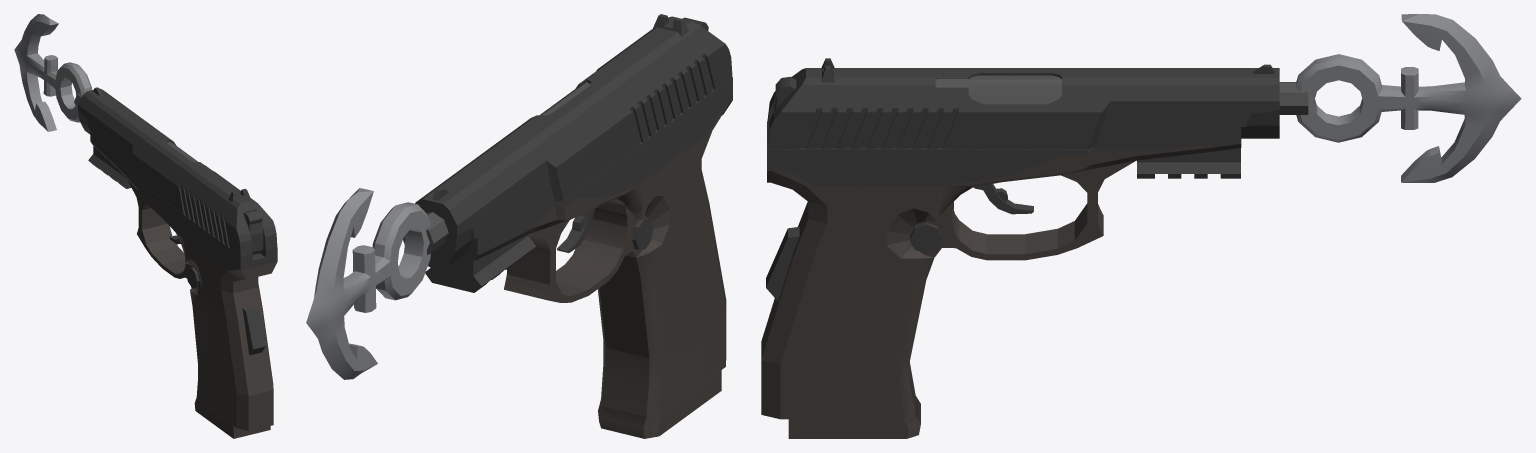
The model's file is grappin.glb.
3 renders of one model, left to right at view 1: azimuth 30°, elevation 25°; view 2: azimuth 150°, elevation 25°; view 3: azimuth 270°, elevation 25°, orthographic. The views are drawn at different scales.
Visible parts, largest first — view 1: Frame, Slide, Prop_Anchor, Grip_Safety, Magazine, Hammer, Pic_Rail; view 2: Frame, Slide, Prop_Anchor, Magazine, Pic_Rail, Barrel, Trigger, Mag_Release, Rear_Sights; view 3: Frame, Slide, Prop_Anchor, Barrel, Magazine, Pic_Rail, Grip_Safety, Mag_Release.
Boxes of the visible parts, x1,y1,x2,y2 form: Frame: (90,130,277,431); Slide: (78,88,277,255); Prop_Anchor: (14,14,92,131); Grip_Safety: (242,305,265,355); Magazine: (194,398,270,438); Hammer: (243,210,263,254); Pic_Rail: (88,146,131,188); Frame: (461,77,732,416); Slide: (415,16,732,268); Prop_Anchor: (306,188,430,379); Magazine: (598,370,721,438); Pic_Rail: (425,235,536,292); Barrel: (403,82,590,254); Trigger: (557,206,597,252); Mag_Release: (632,218,653,249); Rear_Sights: (652,14,688,36); Frame: (761,122,1241,419); Slide: (767,68,1279,148); Prop_Anchor: (1296,14,1521,182); Barrel: (968,75,1308,114); Magazine: (788,396,920,438); Pic_Rail: (1137,148,1240,178); Grip_Safety: (766,227,799,300); Mag_Release: (910,222,942,253).
Size of the model in its own units: 0.0163 by 0.1123 by 0.1879.
2 materials, 1 textured.
